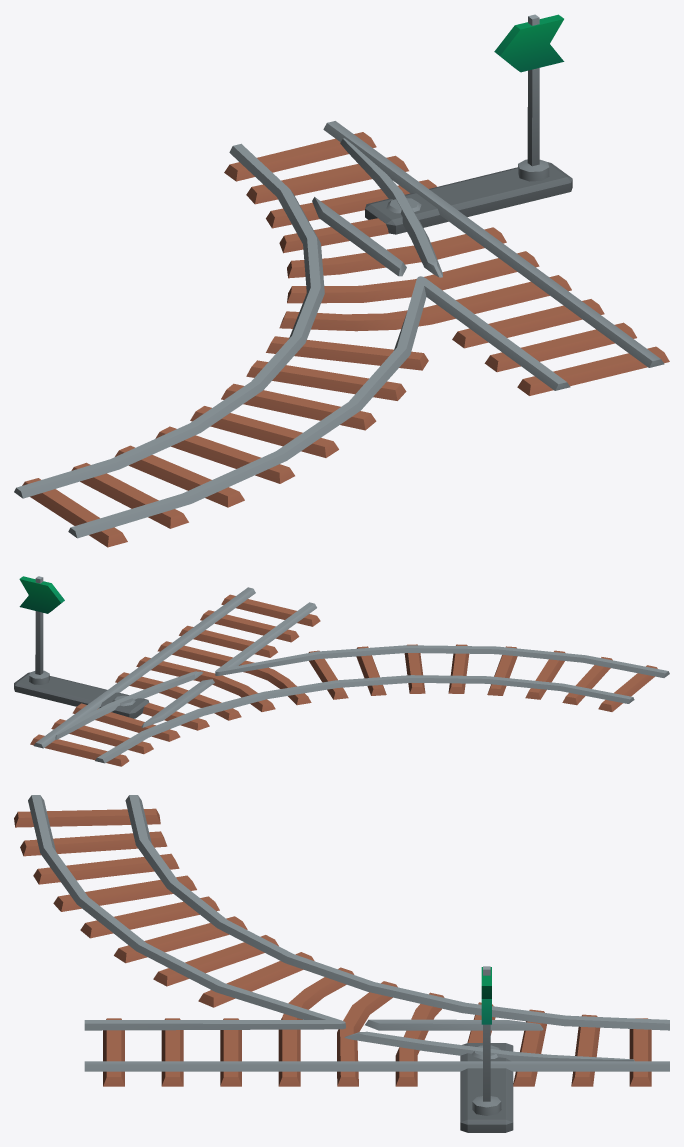
The model's file is tracks_split_right.fbx.
3 renders of one model, top to bottom at view 1: azimuth 30°, elevation 25°; view 2: azimuth 150°, elevation 25°; view 3: azimuth 270°, elevation 25°, orthographic. The views are drawn at different scales.
Visible parts, largest first — view 1: tracks_split_right, tracks_split_right_arrow, tracks_split_right_part; view 2: tracks_split_right, tracks_split_right_arrow, tracks_split_right_part; view 3: tracks_split_right, tracks_split_right_arrow, tracks_split_right_part.
Boxes of the visible parts, box(x1,y1,x2,y2) form: tracks_split_right: box(14, 121, 669, 547); tracks_split_right_arrow: box(494, 14, 564, 181); tracks_split_right_part: box(340, 138, 421, 213); tracks_split_right: box(14, 587, 669, 766); tracks_split_right_arrow: box(19, 576, 64, 684); tracks_split_right_part: box(55, 695, 135, 739); tracks_split_right: box(14, 795, 669, 1132); tracks_split_right_arrow: box(472, 966, 501, 1115); tracks_split_right_part: box(472, 1045, 634, 1061).
Bounding box in the file's own units: 262 × 57.5 × 224.
